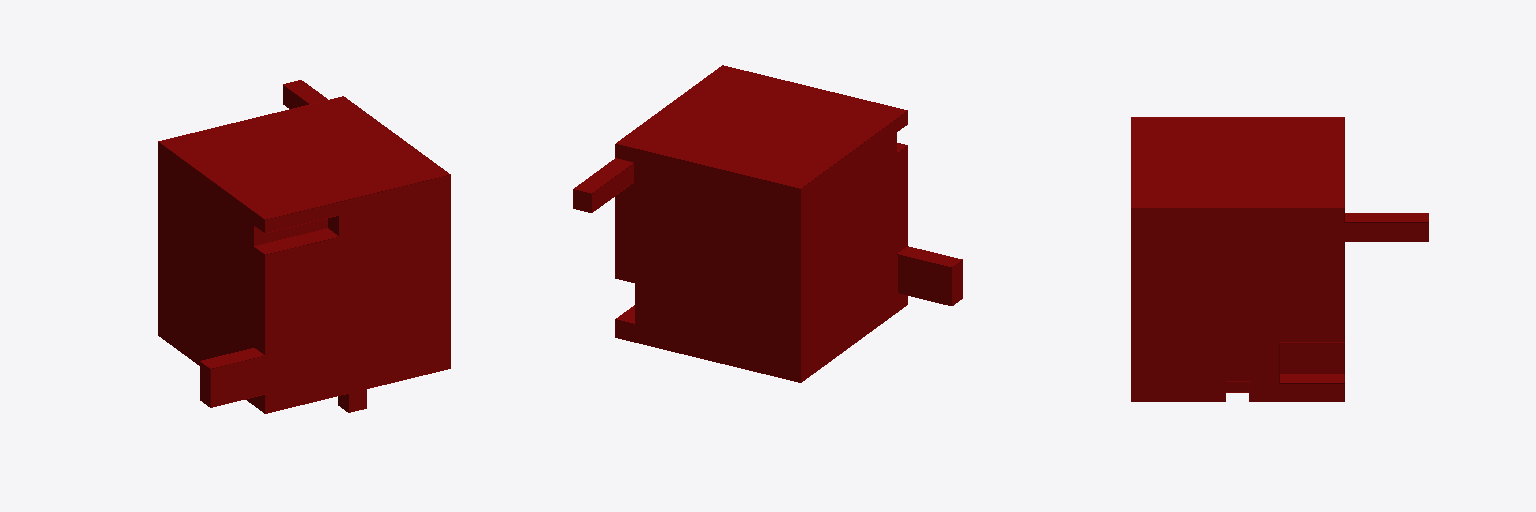
The model's file is rep-tile_1.obj.
3 renders of one model, left to right at view 1: azimuth 30°, elevation 25°; view 2: azimuth 150°, elevation 25°; view 3: azimuth 270°, elevation 25°, orthographic.
Parts seen in each view (by area): view 1: Cube; view 2: Cube; view 3: Cube.
Part boxes in pixels (x1,y1,x2,y2): Cube: (158,80,450,413); Cube: (573,65,962,382); Cube: (1131,117,1428,401).
Bounding box in the file's own units: 2.59 × 2.2 × 2.79.